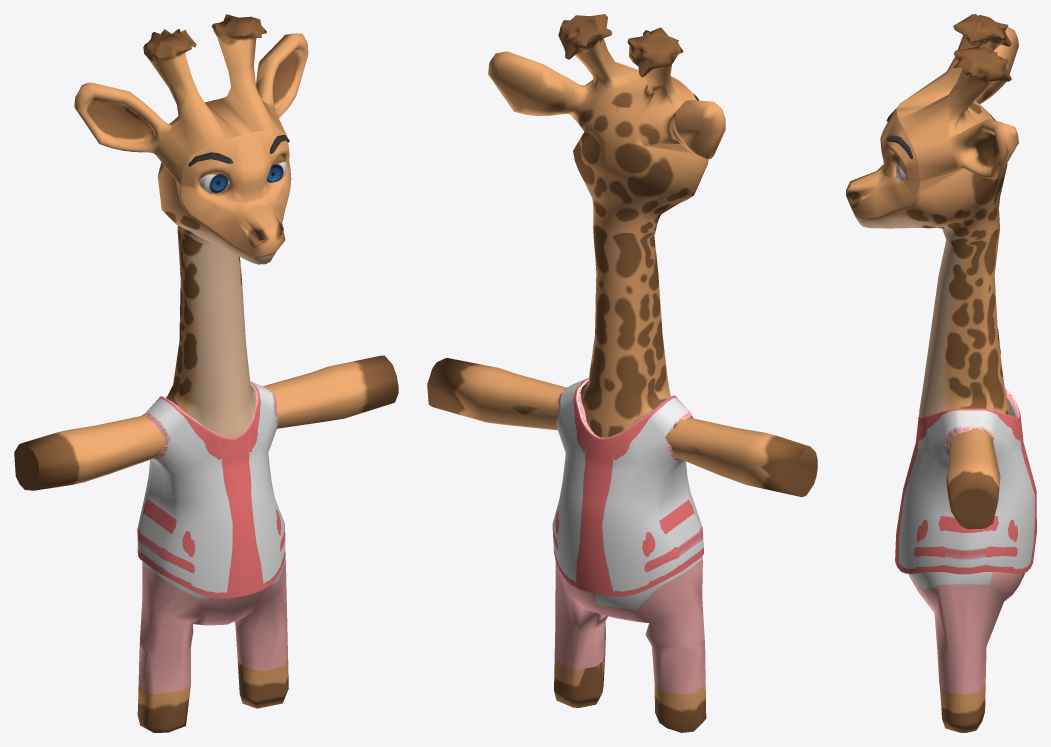
The model's file is Jiraf.fbx.
3 renders of one model, left to right at view 1: azimuth 30°, elevation 25°; view 2: azimuth 150°, elevation 25°; view 3: azimuth 270°, elevation 25°, orthographic. The views are drawn at different scales.
Visible parts, largest first — view 1: body, Dress4, Eyes; view 2: body, Dress4; view 3: body, Dress4.
Part boxes in pixels (x1,y1,x2,y2): body: (14,14,398,490); Dress4: (137,381,288,732); Eyes: (199,155,286,193); body: (427,14,817,496); Dress4: (552,378,706,732); body: (846,14,1018,529); Dress4: (895,387,1036,732).
Bounding box in the file's own units: 19.86 × 35.66 × 9.23.
2 materials, 2 textured.
